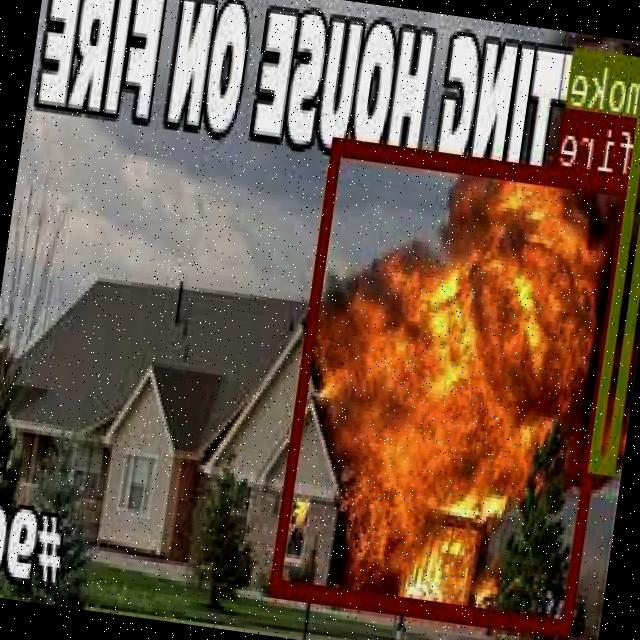fire: (272, 136, 637, 634)
smoke: (592, 55, 640, 469)
